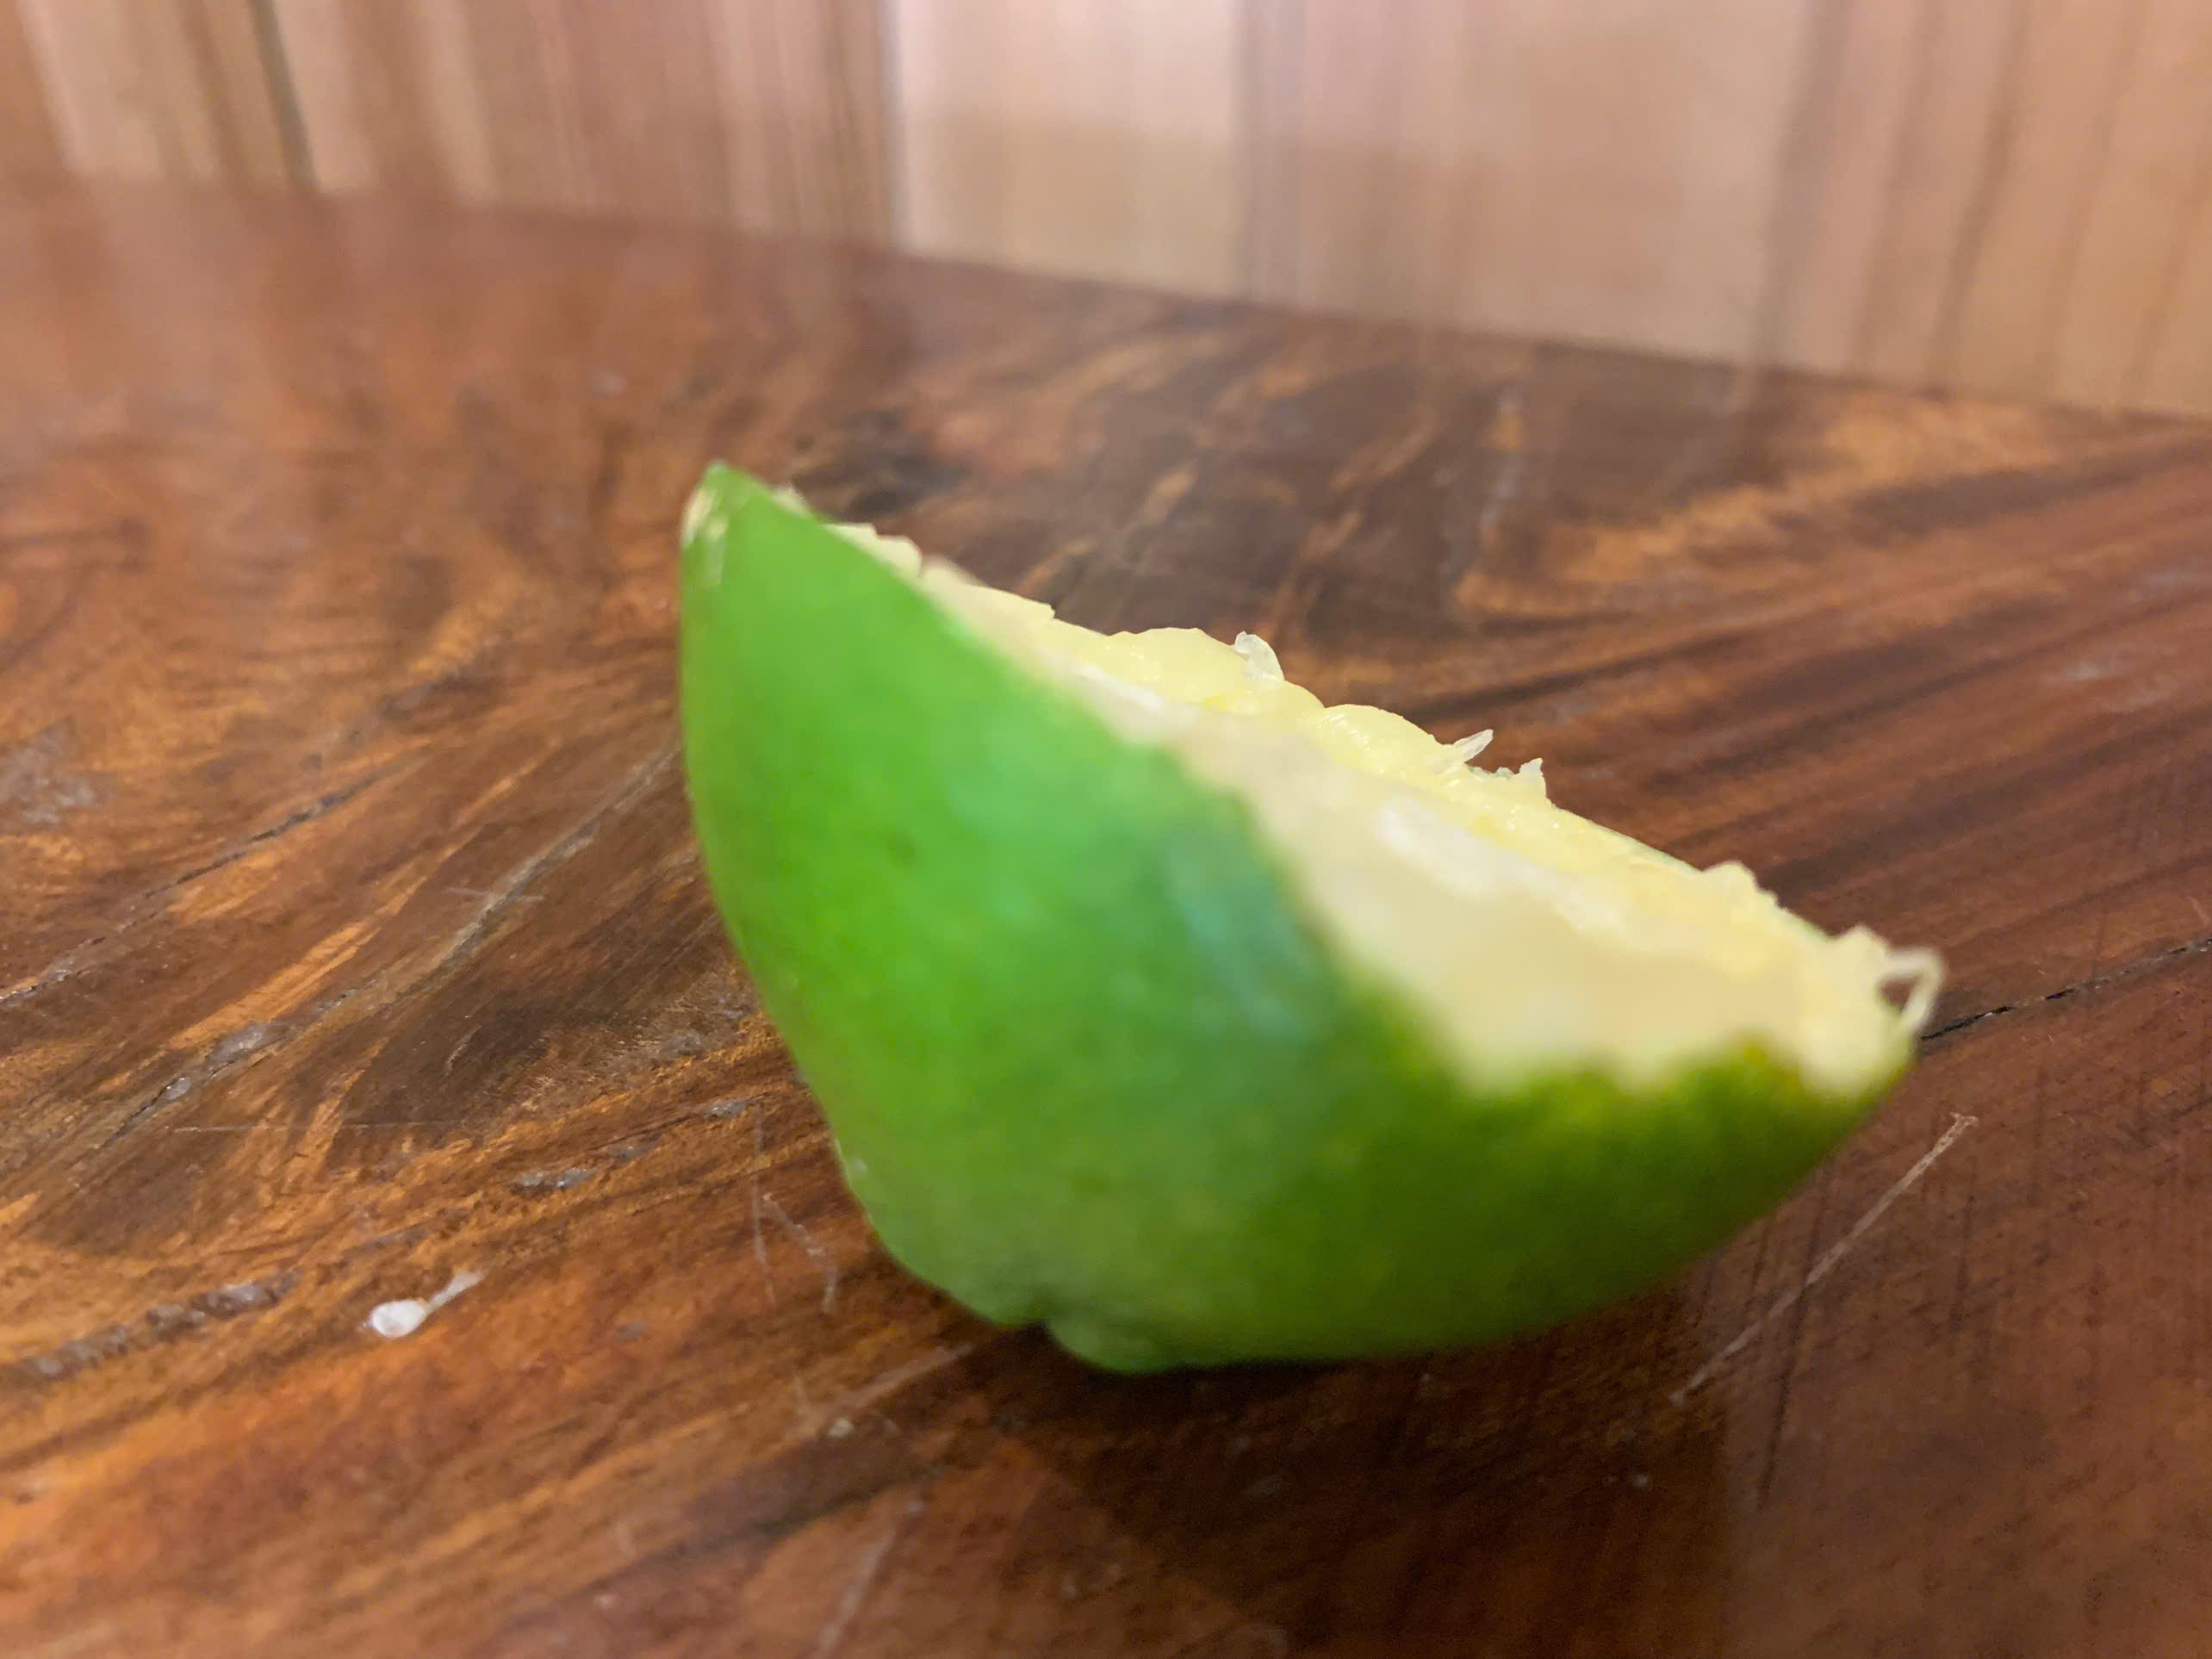Huu co: (680, 460, 1953, 1359)
